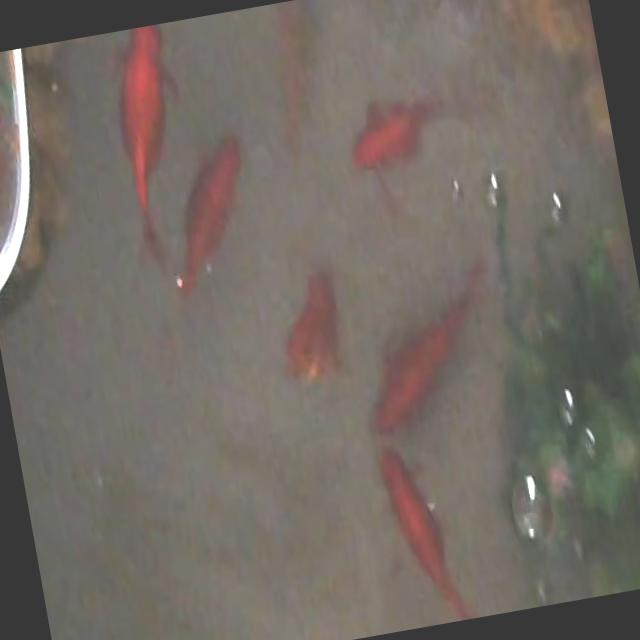fish: (346, 261, 512, 441), (100, 22, 202, 256), (147, 130, 266, 302), (374, 433, 477, 630), (340, 81, 479, 222), (260, 0, 333, 154), (268, 263, 350, 392)
